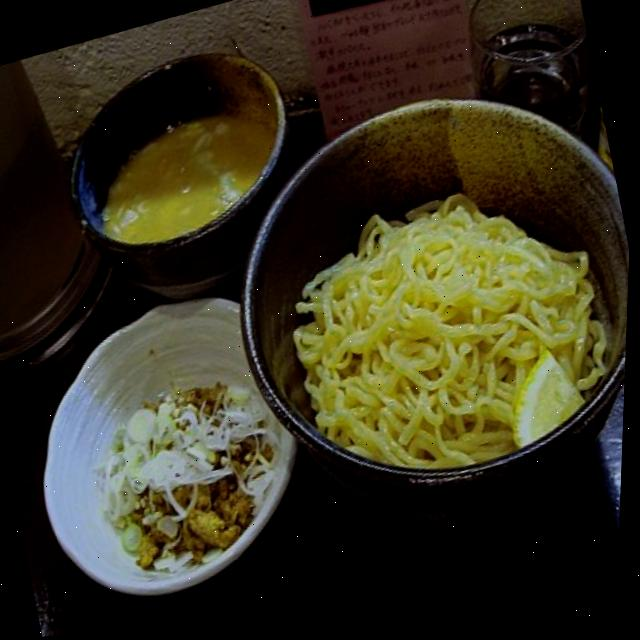面条主食: (23, 14, 639, 597)
